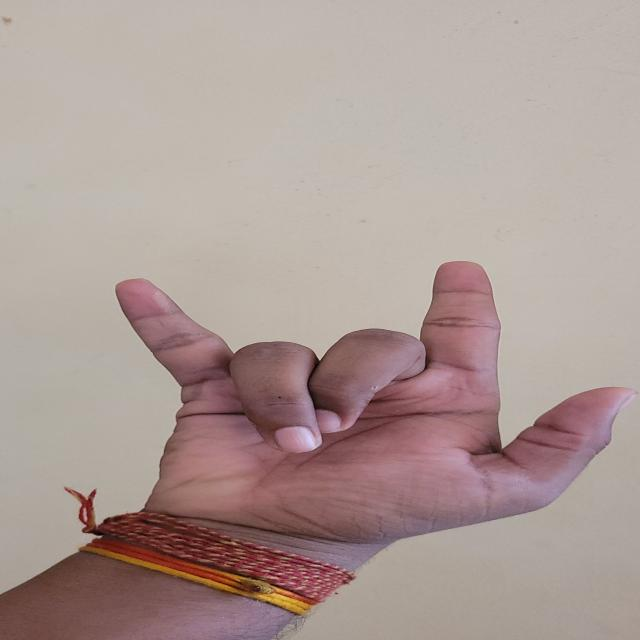i like you: (49, 260, 621, 557)
